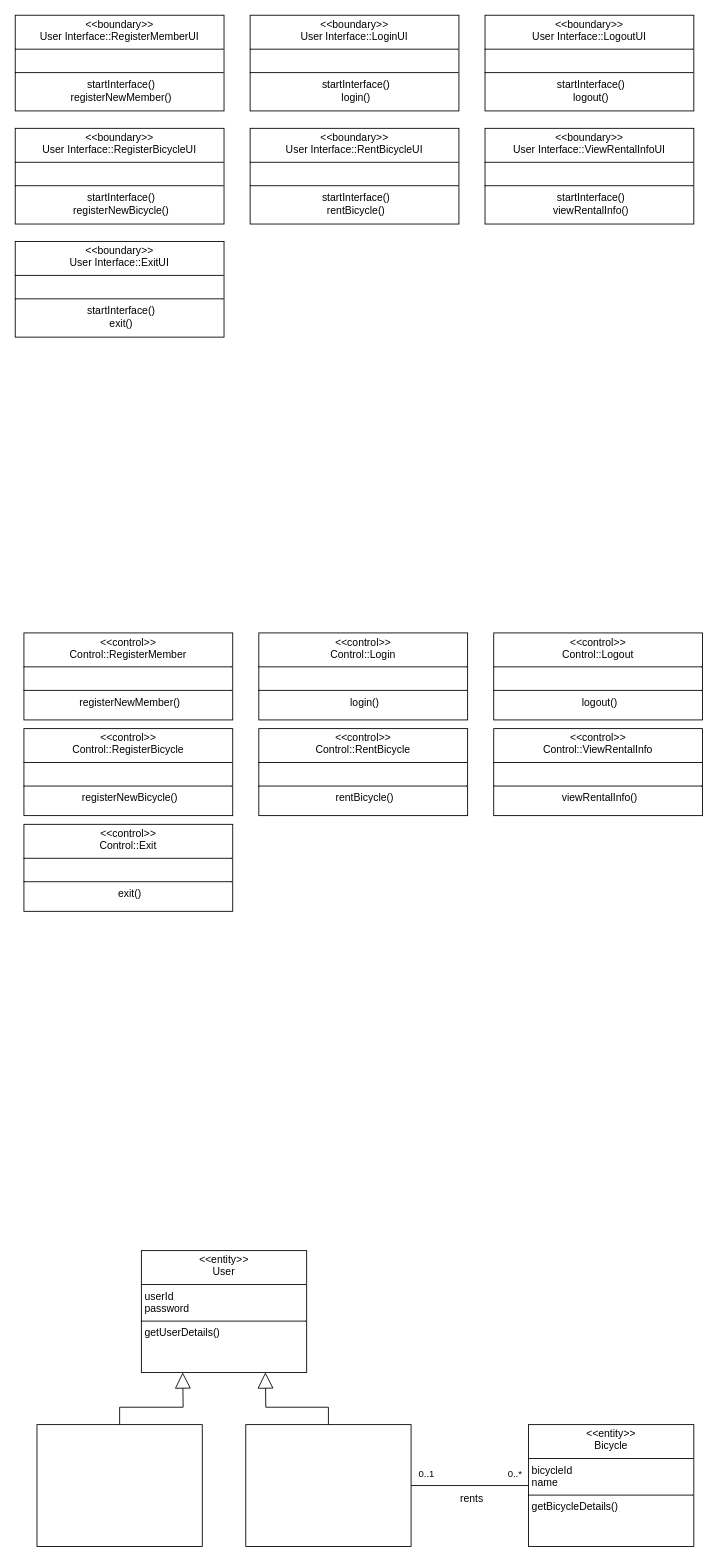
This 718x1562 diagram has some shape labels left out. Here are the shapes that lost their labels. From the top down, the centre of each, then its label:
At point 119,1485: "<< entity >> Admin".
At point 328,1485: "<< entity >> Member phoneNumber getMemberDetails() rentBicycle() listBicycles()".
